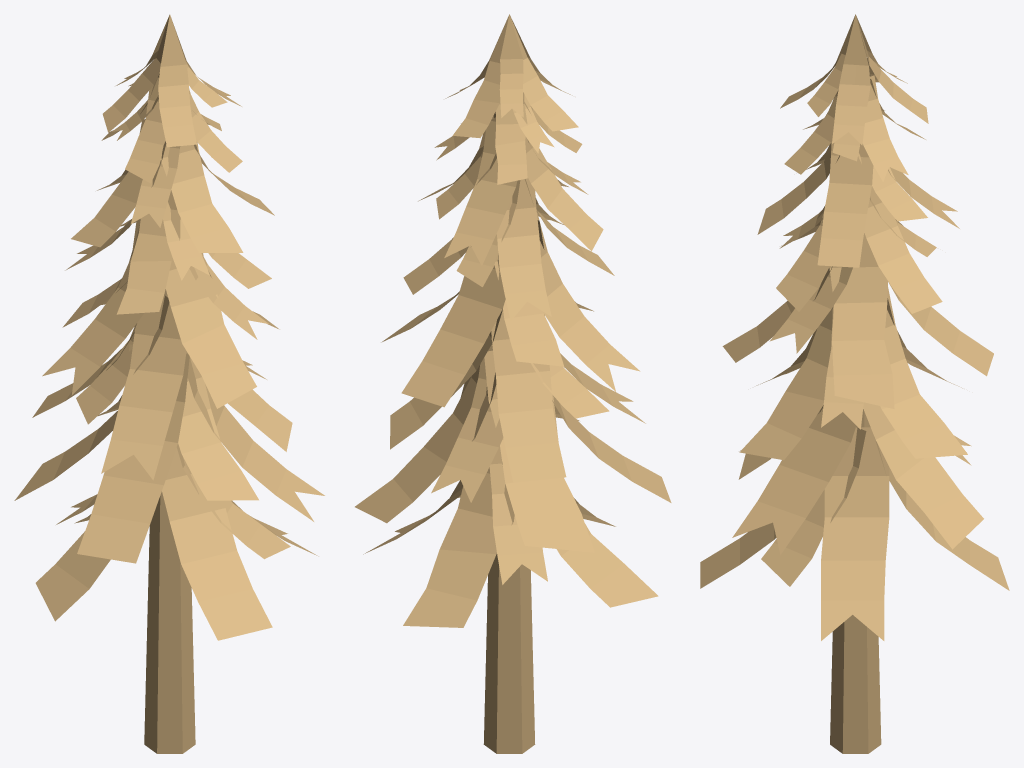
File: Mega_Asset_s_Pack_Cylinder_012.FBX
3 views of the same model, side by side, from view 1: azimuth 30°, elevation 25°; view 2: azimuth 150°, elevation 25°; view 3: azimuth 270°, elevation 25° (orthographic).
Parts seen in each view (by area): view 1: Mega_Asset_s_Pack_Cylinder_012; view 2: Mega_Asset_s_Pack_Cylinder_012; view 3: Mega_Asset_s_Pack_Cylinder_012.
Boxes of the visible parts, x1,y1,x2,y2 form: Mega_Asset_s_Pack_Cylinder_012: [14, 14, 324, 753]; Mega_Asset_s_Pack_Cylinder_012: [355, 14, 671, 753]; Mega_Asset_s_Pack_Cylinder_012: [700, 14, 1009, 753].
Size of what is drawn, in the model's own units: 342 by 347 by 903.
